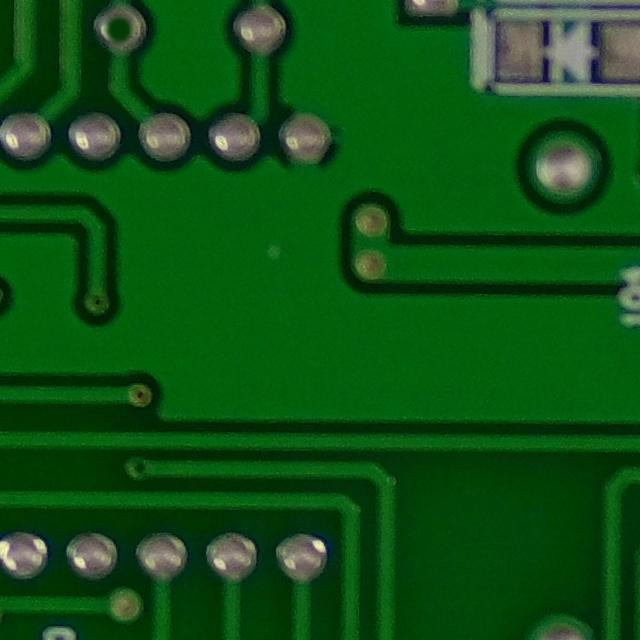missing_hole: (92, 0, 152, 59)
